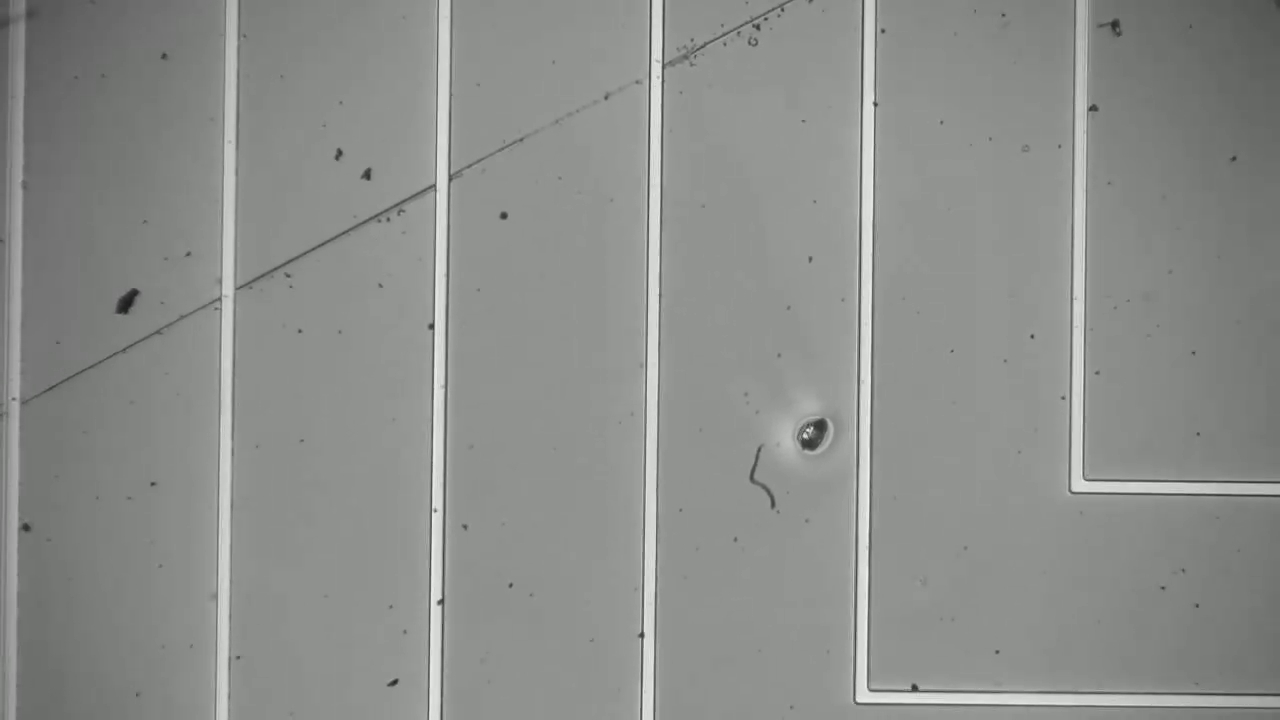scratch: (29, 1, 818, 411)
